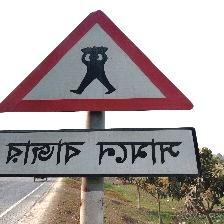Market-in-front: (0, 11, 199, 178)
